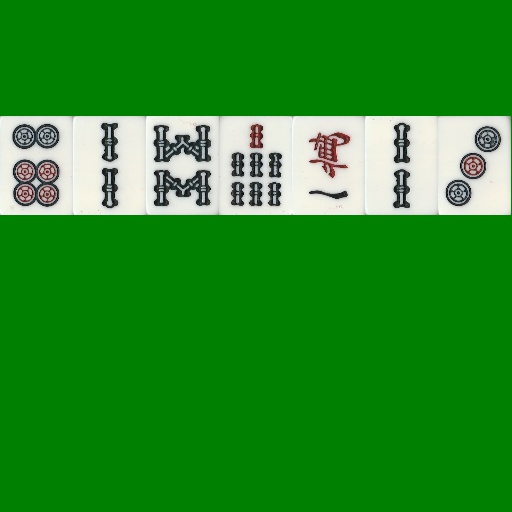1m: (292, 116, 365, 215)
2s: (73, 116, 146, 215), (365, 116, 438, 215)
3p: (438, 116, 511, 215)
6p: (0, 116, 73, 215)
7s: (219, 116, 292, 215)
8s: (146, 116, 219, 215)
